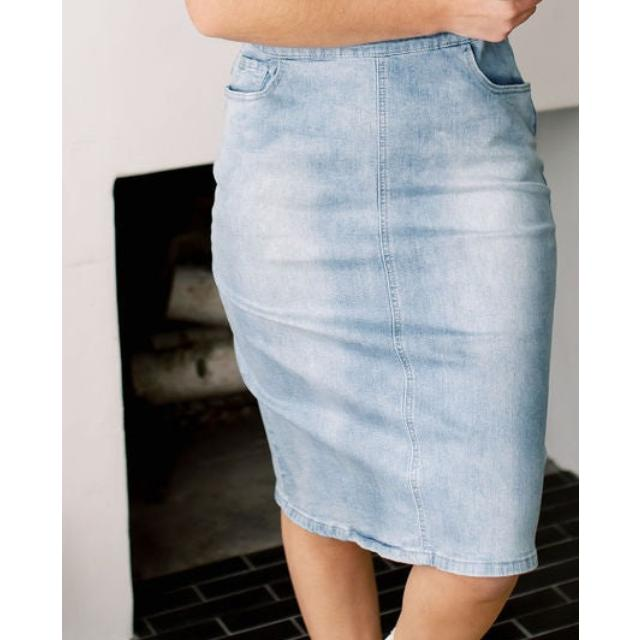denim: (226, 1, 548, 574)
